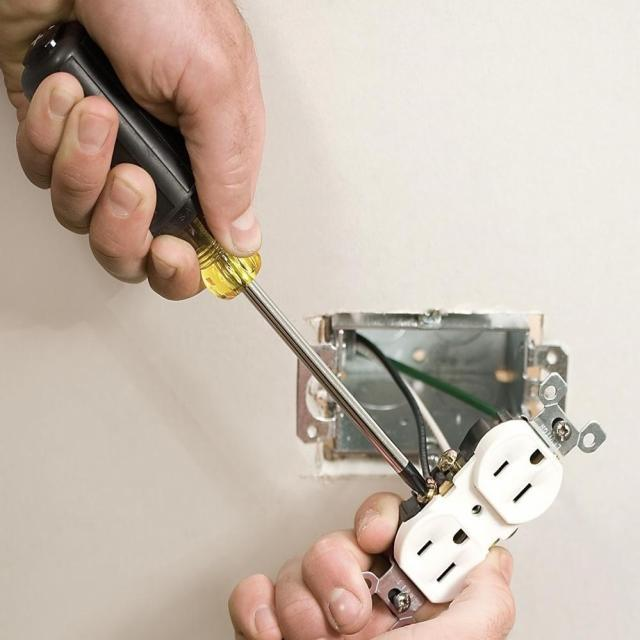screwdriver: (19, 19, 436, 494)
